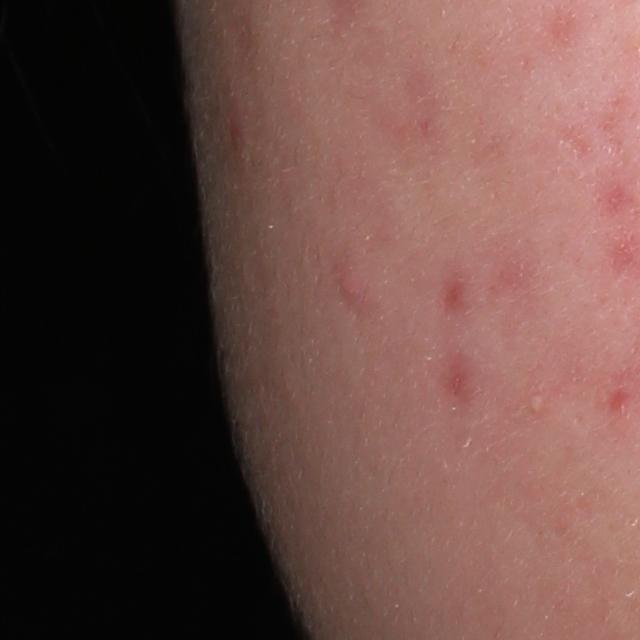atrophic_scar: (558, 125, 593, 166)
comedo: (524, 389, 544, 411)
papule: (331, 263, 365, 300)
